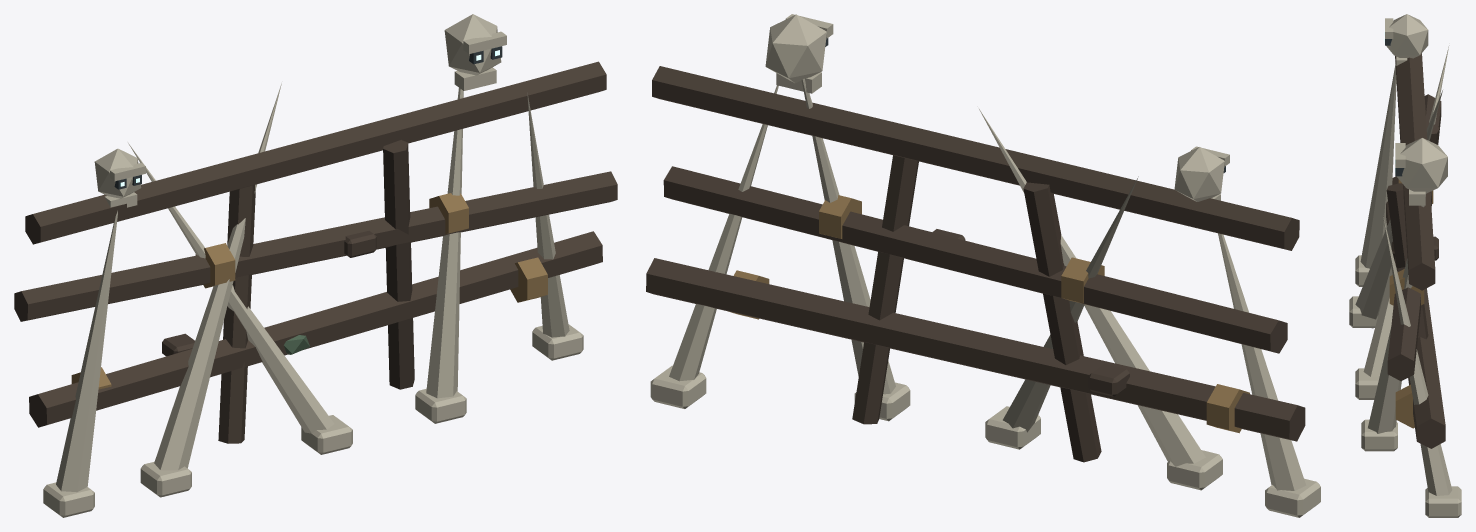
File: warden_bone_barricade.glb
3 views of the same model, side by side, from view 1: azimuth 30°, elevation 25°; view 2: azimuth 150°, elevation 25°; view 3: azimuth 270°, elevation 25° (orthographic). The views are drawn at different scales.
Visible parts, largest first — view 1: warden_bone_barricade; view 2: warden_bone_barricade; view 3: warden_bone_barricade.
Part boxes in pixels (left/top/right/bottom): warden_bone_barricade: left=14, top=14, right=617, bottom=517; warden_bone_barricade: left=646, top=14, right=1320, bottom=517; warden_bone_barricade: left=1349, top=14, right=1461, bottom=517.
Bounding box in the file's own units: 1.97 × 1.21 × 0.37.
